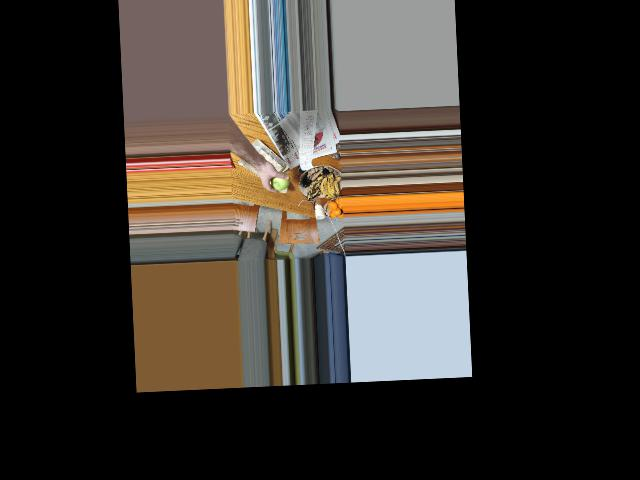apple: (269, 171, 289, 191)
